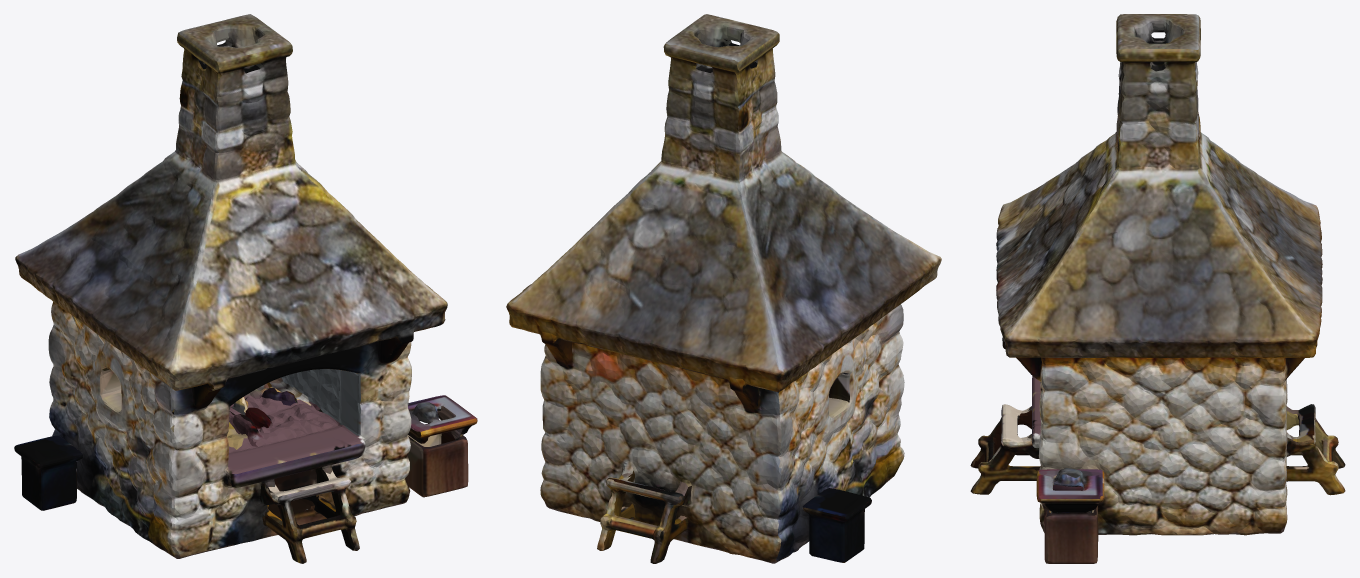
Rendered from mdl_blacksmith_001.glb.
The picture shows the model from 3 angles, left to right: view 1: azimuth 30°, elevation 25°; view 2: azimuth 150°, elevation 25°; view 3: azimuth 270°, elevation 25°; orthographic projection.
Visible parts, largest first — view 1: tmpcfcr0w4u.ply; view 2: tmpcfcr0w4u.ply; view 3: tmpcfcr0w4u.ply.
Part boxes in pixels (x1,y1,x2,y2): tmpcfcr0w4u.ply: (14,14,477,563); tmpcfcr0w4u.ply: (506,14,941,563); tmpcfcr0w4u.ply: (970,14,1345,563).
Bounding box in the file's own units: 0.8127 × 0.9905 × 0.7465.
1 material, 1 textured.
